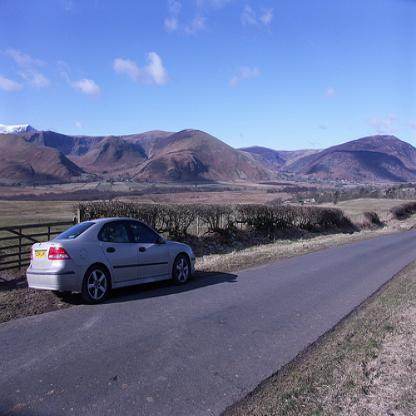car: (26, 215, 197, 302)
